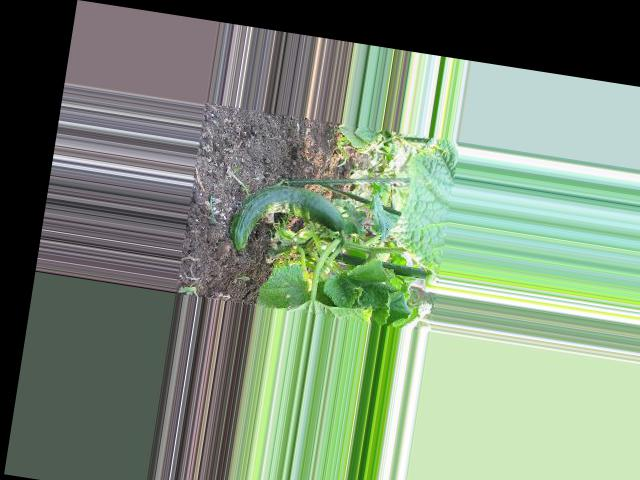cucumber: (226, 177, 350, 266)
